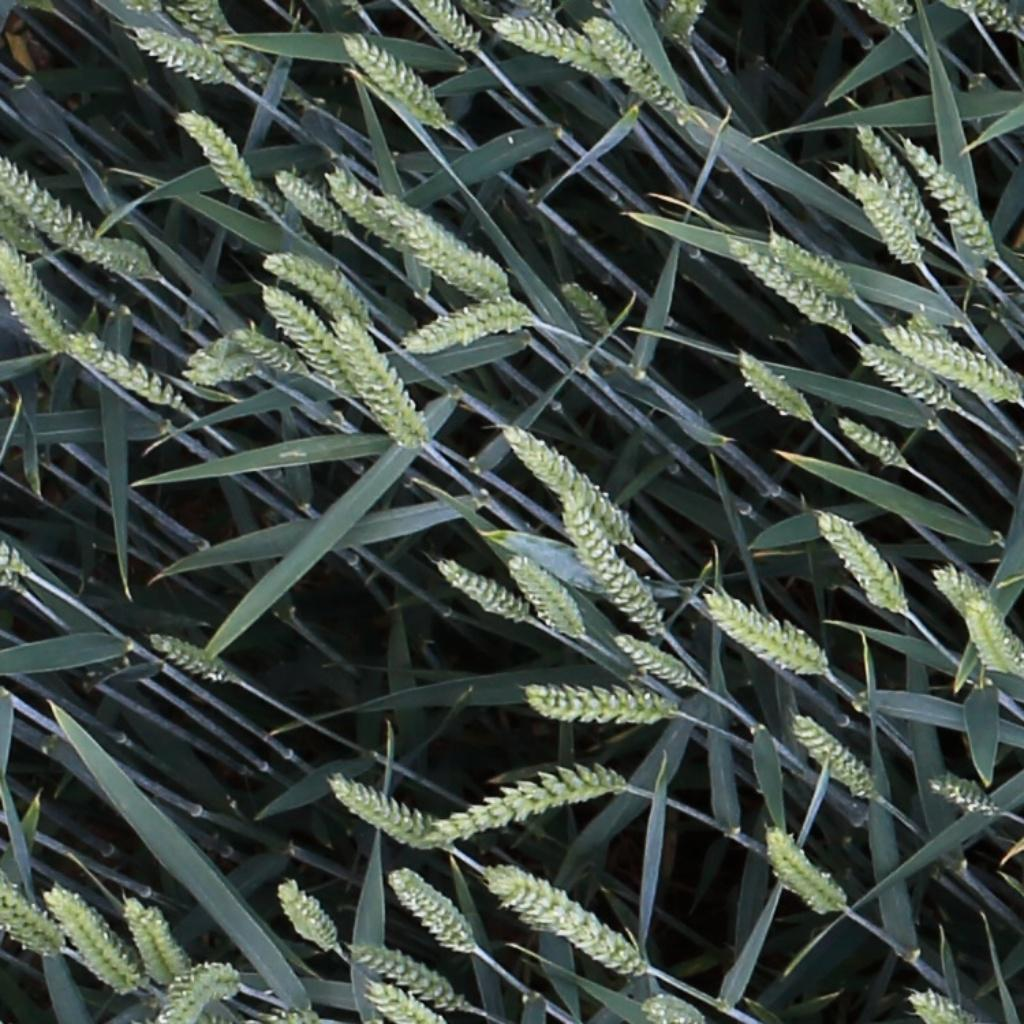0-0: (487, 866, 645, 978), (499, 423, 636, 542), (414, 764, 628, 840), (558, 502, 666, 638), (379, 192, 513, 297), (897, 133, 1000, 260), (331, 311, 425, 450), (724, 238, 849, 339), (171, 1, 301, 98), (705, 596, 831, 687), (887, 327, 1023, 407), (850, 117, 935, 241), (42, 883, 135, 996), (327, 774, 455, 853), (341, 35, 446, 128), (260, 285, 350, 391), (588, 19, 685, 117), (816, 509, 905, 615), (403, 219, 512, 298), (397, 295, 532, 357), (173, 106, 258, 203), (0, 236, 68, 357), (68, 335, 180, 406), (787, 715, 877, 802), (386, 866, 472, 957), (116, 895, 195, 994), (346, 943, 462, 1010), (845, 163, 920, 264), (761, 830, 849, 916), (0, 154, 83, 243), (518, 685, 676, 731), (491, 13, 607, 75), (861, 342, 956, 416), (263, 252, 365, 318), (323, 167, 406, 247), (507, 554, 581, 638), (152, 959, 244, 1024), (734, 346, 811, 420), (131, 28, 234, 83), (434, 559, 524, 621), (270, 165, 345, 236), (768, 233, 853, 294), (963, 599, 1024, 682), (273, 877, 338, 953), (0, 883, 64, 953), (613, 633, 692, 688), (146, 634, 230, 684), (69, 234, 153, 281), (835, 416, 906, 468), (555, 275, 613, 338), (229, 327, 304, 374), (932, 567, 999, 618), (367, 981, 448, 1023), (930, 771, 999, 819), (415, 0, 475, 53), (638, 992, 705, 1024), (910, 984, 963, 1024), (184, 363, 262, 390), (659, 0, 700, 47), (972, 0, 1019, 36), (865, 0, 906, 31)
